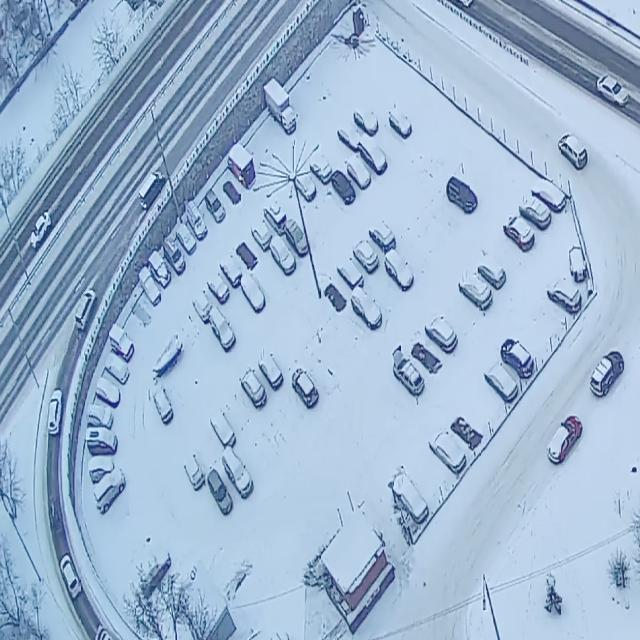car: (388, 466, 430, 527), (429, 420, 467, 479), (546, 411, 583, 470), (263, 77, 298, 137), (588, 346, 625, 401), (218, 446, 254, 502), (500, 331, 536, 384), (136, 548, 172, 600), (391, 350, 425, 401), (484, 358, 518, 409), (546, 272, 583, 318), (92, 468, 127, 516), (351, 280, 383, 332), (456, 270, 493, 314), (226, 140, 257, 192), (424, 309, 458, 355), (596, 70, 630, 112), (209, 304, 237, 354), (385, 247, 414, 295), (518, 190, 551, 232), (558, 128, 588, 174), (208, 407, 237, 454), (502, 212, 536, 252), (532, 175, 566, 215), (238, 367, 268, 412), (475, 249, 506, 292), (238, 267, 265, 316), (367, 214, 397, 258), (207, 468, 234, 516), (334, 253, 364, 296), (290, 368, 319, 412), (359, 133, 388, 177), (269, 233, 297, 278), (446, 175, 478, 214), (352, 233, 380, 277), (58, 552, 82, 602), (283, 214, 310, 258), (137, 171, 166, 211), (257, 350, 284, 392), (73, 288, 98, 333), (107, 323, 135, 362), (353, 100, 379, 142), (86, 426, 118, 459), (188, 286, 214, 326), (162, 234, 186, 277), (330, 168, 356, 207), (336, 115, 362, 154), (262, 197, 288, 236), (151, 382, 174, 426), (147, 250, 172, 290), (346, 152, 371, 192), (218, 250, 243, 290), (138, 266, 161, 309), (289, 169, 317, 204), (307, 147, 332, 186), (103, 351, 130, 387), (182, 450, 205, 492), (206, 268, 231, 306), (250, 216, 274, 254), (185, 204, 208, 243), (29, 213, 52, 252), (95, 376, 121, 410), (46, 389, 64, 438), (88, 455, 116, 486), (388, 105, 412, 140), (86, 403, 113, 434), (204, 188, 226, 226), (175, 221, 197, 257)
